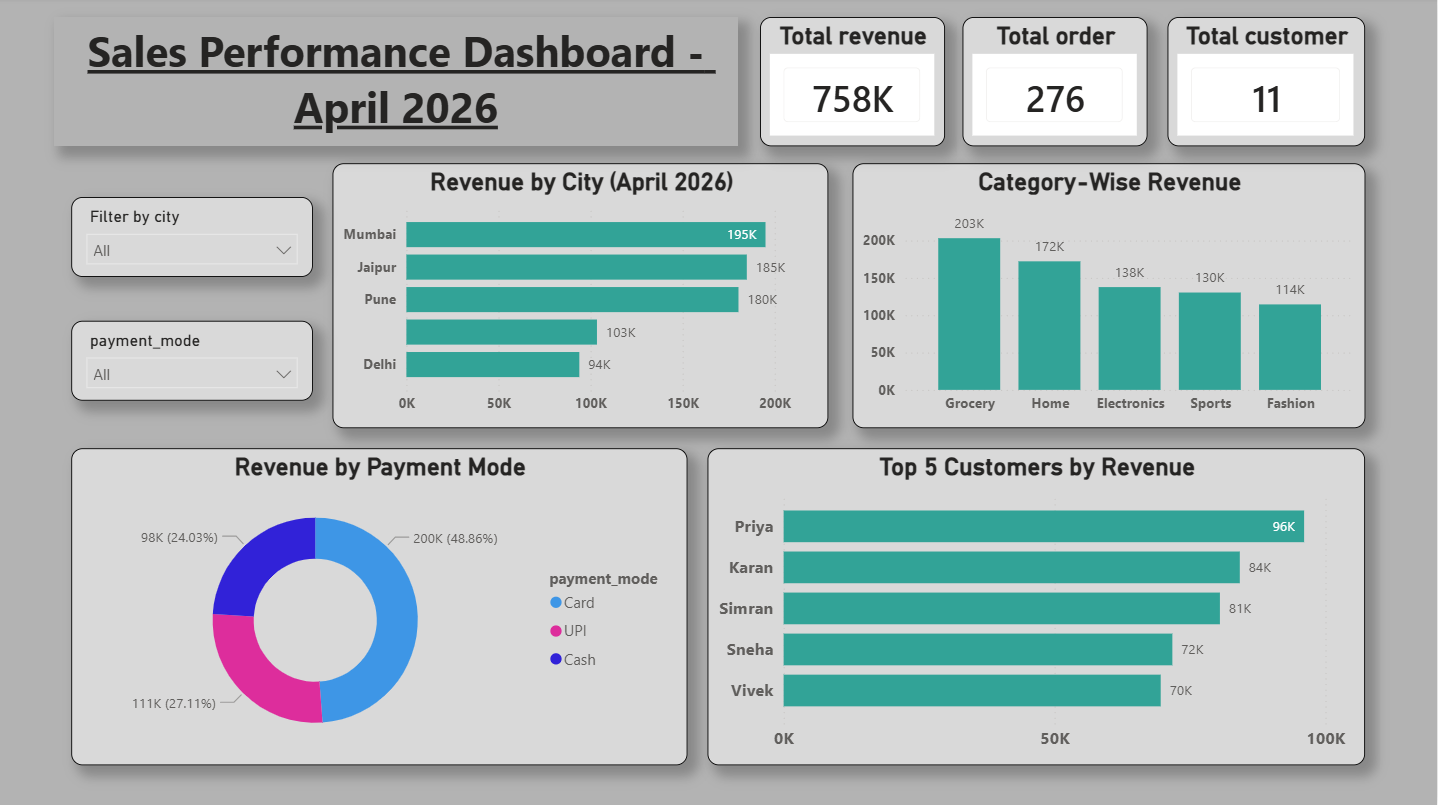

What the dashboard file says about the page in this screenshot:
{"tool":"powerbi","page":{"name":"Page 1","canvas":[1280,720],"ordinal":0},"visuals":[{"type":"clusteredBarChart","title":"Revenue by City (April 2026)","fields":{"Category":["cleaned_sales_data.city"],"Y":["Sum(cleaned_sales_data.amount)"]},"box":[296.4,148.2,441.9,236],"z":0},{"type":"clusteredColumnChart","title":"Category-Wise Revenue","fields":{"Category":["cleaned_sales_data.product_category"],"Y":["Sum(cleaned_sales_data.amount)"]},"box":[758.8,148.2,456.9,236],"z":1},{"type":"donutChart","title":"Revenue by Payment Mode","fields":{"Y":["Sum(cleaned_sales_data.order_id)"],"Category":["cleaned_sales_data.payment_mode"]},"box":[63.1,402.1,548.9,282.7],"z":2},{"type":"clusteredBarChart","title":"Top 5 Customers by Revenue","fields":{"Category":["cleaned_sales_data.customer_name"],"Y":["Sum(cleaned_sales_data.amount)"]},"box":[629.8,402.1,585.9,282.7],"z":3},{"type":"cardVisual","title":"Total revenue","fields":{"Data":["Sum(cleaned_sales_data.amount)"]},"box":[676.5,17.8,164.7,115.3],"z":4},{"type":"cardVisual","title":"Total order","fields":{"Data":["CountNonNull(cleaned_sales_data.order_id)"]},"box":[857.6,17.8,164.7,115.3],"z":5},{"type":"cardVisual","title":"Total customer","fields":{"Data":["Count(cleaned_sales_data.customer_name)"]},"box":[1040.1,17.8,175.6,115.3],"z":6},{"type":"slicer","fields":{"Values":["cleaned_sales_data.city"]},"box":[63.1,178.4,215.4,71.4],"z":7},{"type":"slicer","fields":{"Values":["cleaned_sales_data.payment_mode"]},"box":[63.1,288.2,215.4,71.4],"z":8},{"type":"textbox","box":[48,17.8,609.3,115.3],"z":9}]}

Visuals, with their boxes in screenshot pixels (x1, y1, x2, y2), scaled from the page's 1280x720 canvas onto the 1438x805 screenshot:
"Revenue by City (April 2026)" clusteredBarChart: 333/166/829/430
"Category-Wise Revenue" clusteredColumnChart: 852/166/1366/430
"Revenue by Payment Mode" donutChart: 71/450/688/766
"Top 5 Customers by Revenue" clusteredBarChart: 708/450/1366/766
"Total revenue" cardVisual: 760/20/945/149
"Total order" cardVisual: 963/20/1148/149
"Total customer" cardVisual: 1168/20/1366/149
slicer - cleaned_sales_data.city: 71/199/313/279
slicer - cleaned_sales_data.payment_mode: 71/322/313/402
textbox: 54/20/738/149
